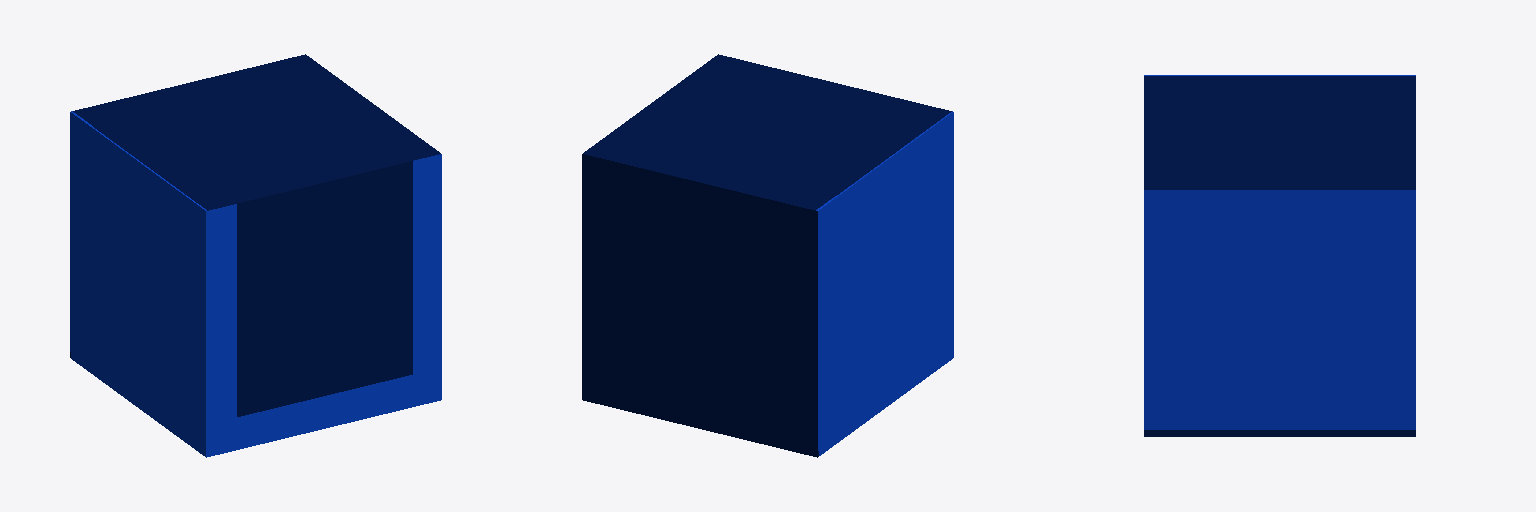
3 renders of one model, left to right at view 1: azimuth 30°, elevation 25°; view 2: azimuth 150°, elevation 25°; view 3: azimuth 270°, elevation 25°, orthographic.
Visible parts, largest first — view 1: Cube; view 2: Cube; view 3: Cube.
Part boxes in pixels (x1,y1,x2,y2): Cube: (70,54,441,457); Cube: (582,54,953,457); Cube: (1144,75,1415,436).
Size of the model in its own units: 2 by 2 by 2.
Materials: 1 (1 with a texture image).